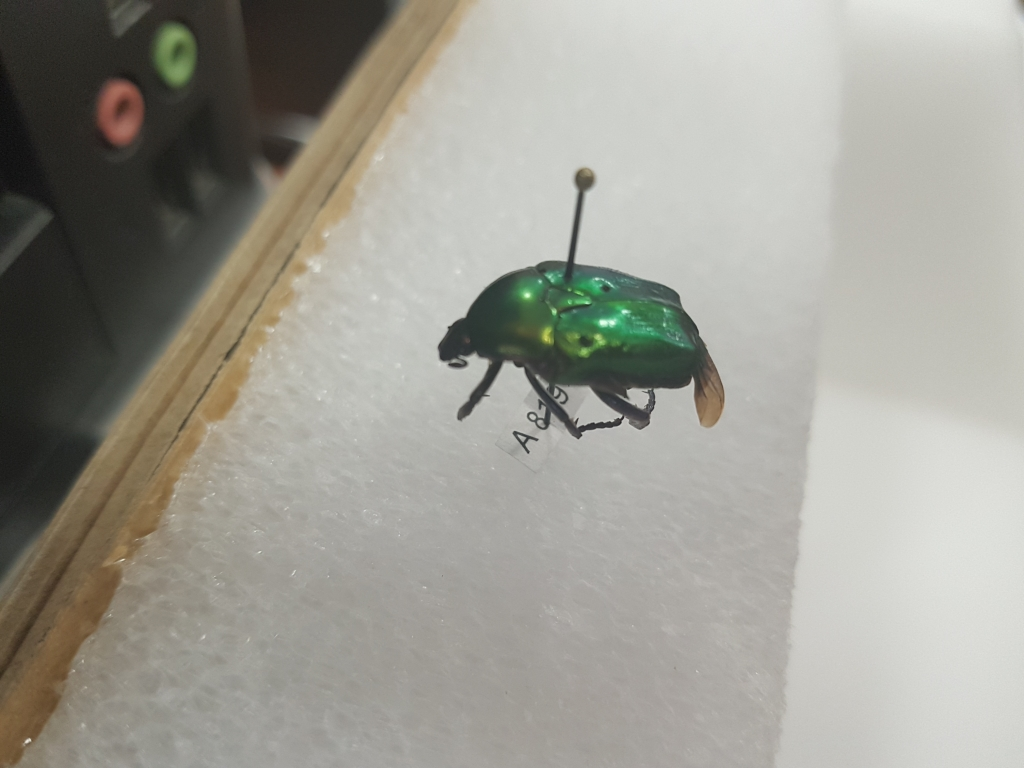Protaetia_cuprea_ignicollis: (421, 257, 738, 443)
